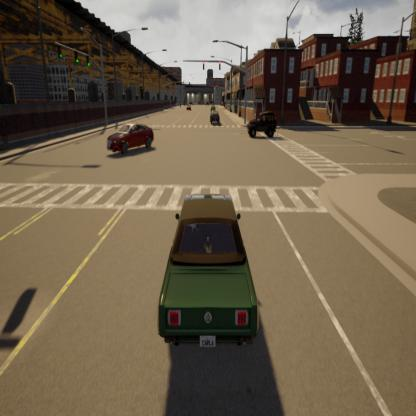Cars: (152, 191, 266, 355), (105, 117, 157, 159), (245, 109, 277, 142), (208, 108, 223, 127), (184, 104, 194, 112), (210, 104, 217, 114)
